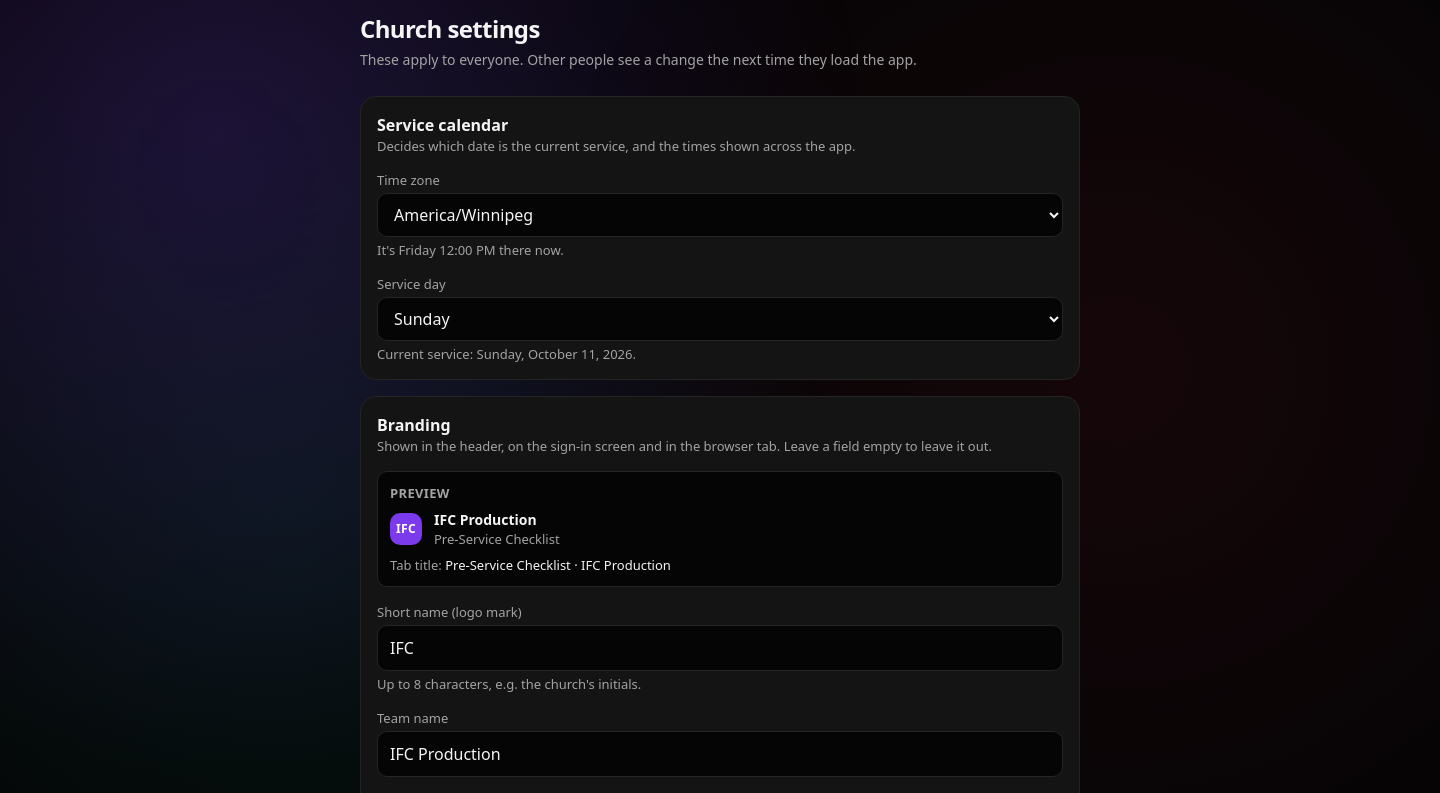
Scenario: Settings page › discards unsaved changes
Expected: the heading "Church settings" is shown, top-left (360, 12), bottom-right (540, 45)
Replace the text in the field labelled "Short name (logo mark)" with "XYZ": (720, 648) top-left (377, 625), bottom-right (1063, 671)
(page scrolled)
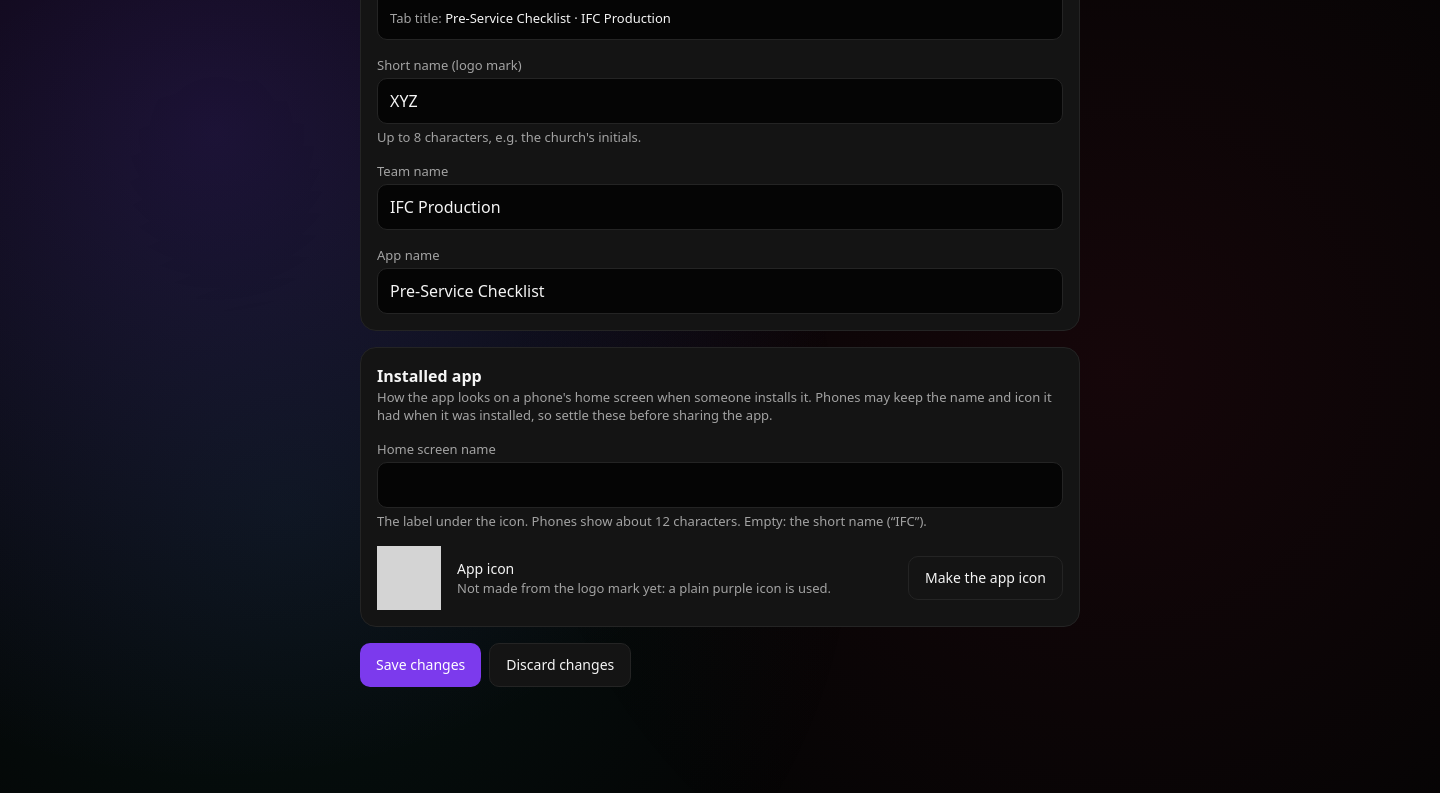
Click the button "Discard changes": (560, 665) top-left (489, 643), bottom-right (631, 687)
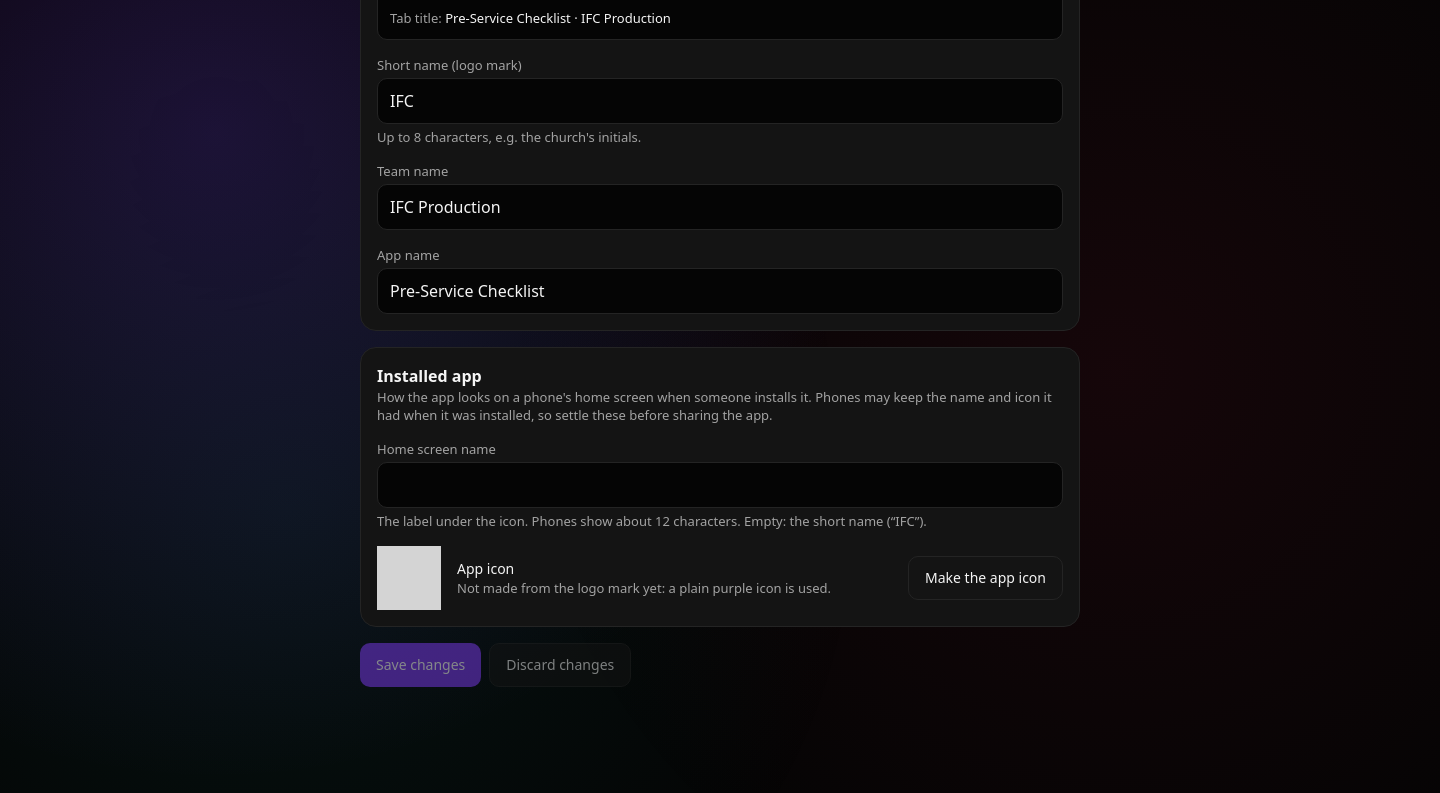
Expected: the field labelled "Short name (logo mark)" holds "IFC", top-left (377, 78), bottom-right (1063, 124)
Expected: the button "Save changes" is disabled, top-left (360, 643), bottom-right (481, 687)
